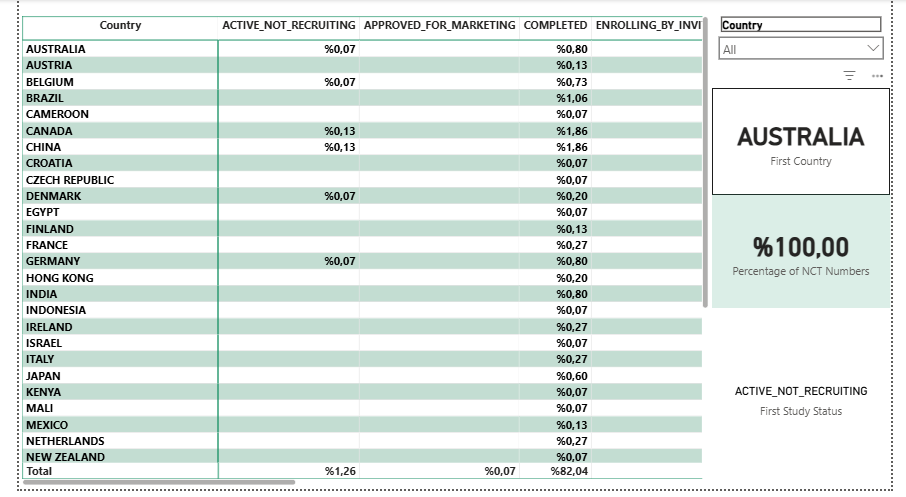

This screenshot's page, from the dashboard's own definition file:
{"tool":"powerbi","page":{"name":"Page 6","canvas":[1280,720],"ordinal":4},"visuals":[{"type":"pivotTable","fields":{"Rows":["clinical_trials_cleaned.Country"],"Values":["clinical_trials_cleaned.Percentage of NCT Numbers"],"Columns":["clinical_trials_cleaned.Study Status"]},"box":[0,20.6,1018.3,699.4],"z":0},{"type":"slicer","fields":{"Values":["clinical_trials_cleaned.Country"]},"box":[1018.3,20.6,261.6,241],"z":1001},{"type":"card","fields":{"Values":["Min(clinical_trials_cleaned.Country)"]},"box":[1018.3,130.8,261.6,157.2],"z":1002},{"type":"card","fields":{"Values":["clinical_trials_cleaned.Percentage of NCT Numbers"]},"box":[1018.3,286.5,261.6,167.5],"z":1003},{"type":"card","fields":{"Values":["Min(clinical_trials_cleaned.Study Status)"]},"box":[1018.3,454,261.6,266],"z":1004}]}

Visuals, with their boxes in screenshot pixels (x1, y1, x2, y2), scaled from the page's 1280x720 canvas onto the 906x497 screenshot:
pivotTable - clinical_trials_cleaned.Country x clinical_trials_cleaned.Percentage of NCT Numbers: 0/14/721/496
slicer - clinical_trials_cleaned.Country: 721/14/905/181
card - Min(clinical_trials_cleaned.Country): 721/90/905/199
card - clinical_trials_cleaned.Percentage of NCT Numbers: 721/198/905/313
card - Min(clinical_trials_cleaned.Study Status): 721/313/905/496
